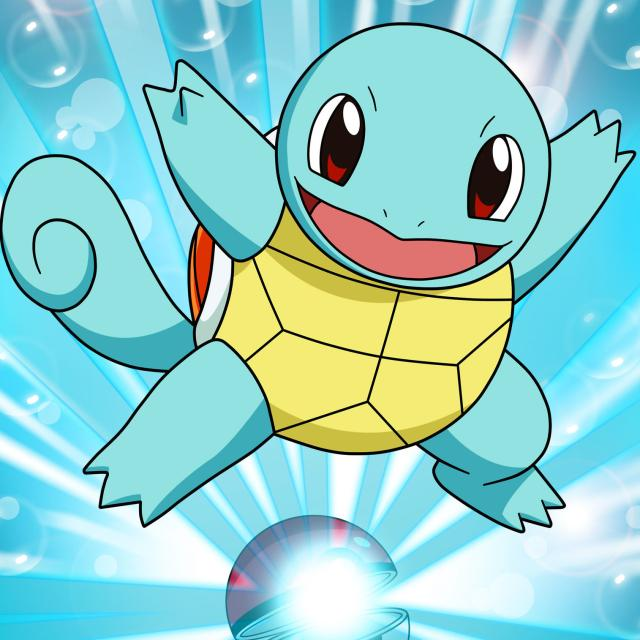Squirtle: (186, 32, 558, 463)
